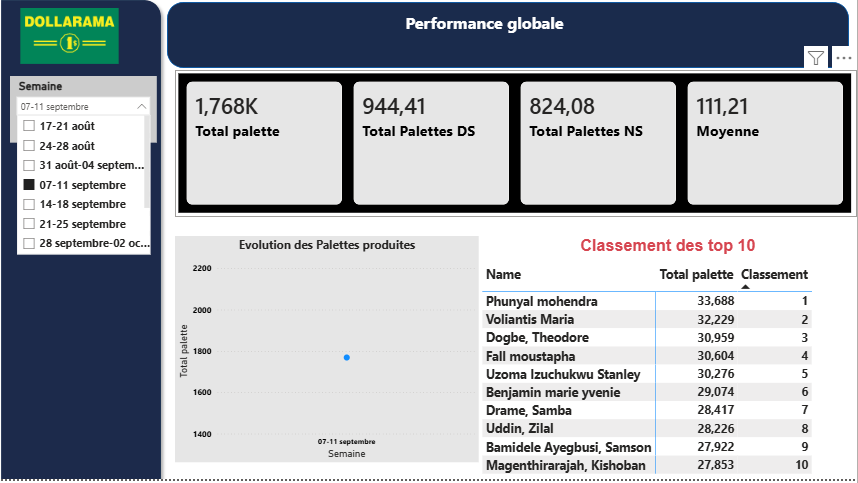

Layout of this report page (visuals, bound fields, positions):
{"tool":"powerbi","page":{"name":"Page 1","canvas":[1280,720],"ordinal":0},"visuals":[{"type":"shape","box":[255.4,11.9,1012.7,98],"z":5},{"type":"shape","box":[0,0,255.4,849.4],"z":6},{"type":"textbox","box":[403.9,20.8,645.9,68.3],"z":8},{"type":"image","box":[35.6,20.8,150,83.2],"z":9},{"type":"slicer","fields":{"Values":["Table.Semaine"]},"box":[22.3,121.8,218.3,66.8],"z":10},{"type":"areaChart","title":"Evolution  des Palettes produites","fields":{"Category":["Table.Semaine"],"Y":["Mesures.Total palette"]},"box":[267.2,359.1,451.1,335.5],"z":12},{"type":"cardVisual","fields":{"Data":["Mesures.Total palette","Mesures.Total Palettes DS","Mesures.Total Palettes NS","Mesures.Moyenne"]},"box":[267.2,113.1,1012.8,217.5],"z":13},{"type":"pivotTable","title":"Classement  par palettes produites","fields":{"Rows":["Table.Name"],"Values":["Mesures.Total palette","Mesures.Rang Pal"]},"box":[718.7,359.4,561.3,349],"z":14}]}

Visuals, with their boxes on the page's 1280x720 design canvas (x1, y1, x2, y2). These are canvas units, not pixel positions in the 858x483 screenshot, which may show the page scaled, cropped or inside an application window:
shape: (255, 12, 1268, 110)
shape: (0, 0, 255, 849)
textbox: (404, 21, 1050, 89)
image: (36, 21, 186, 104)
slicer - Table.Semaine: (22, 122, 241, 189)
"Evolution  des Palettes produites" areaChart: (267, 359, 718, 695)
cardVisual - Mesures.Total palette x Mesures.Total Palettes DS: (267, 113, 1280, 331)
"Classement  par palettes produites" pivotTable: (719, 359, 1280, 708)
